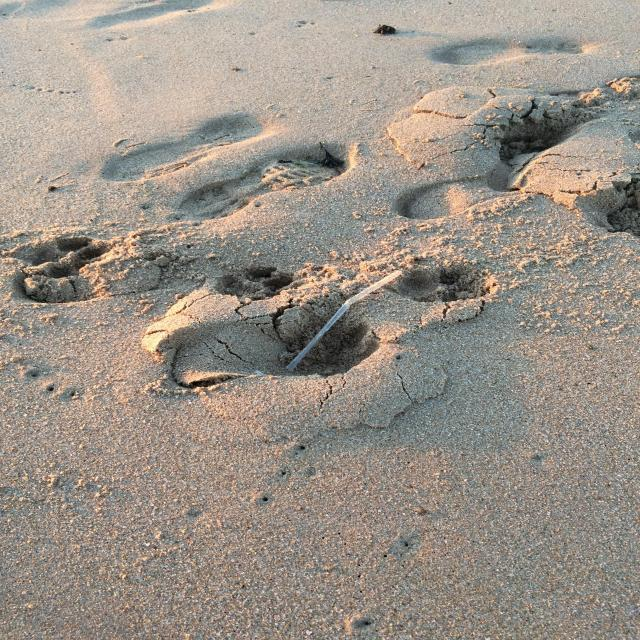Plastic straw: (286, 271, 402, 371)
